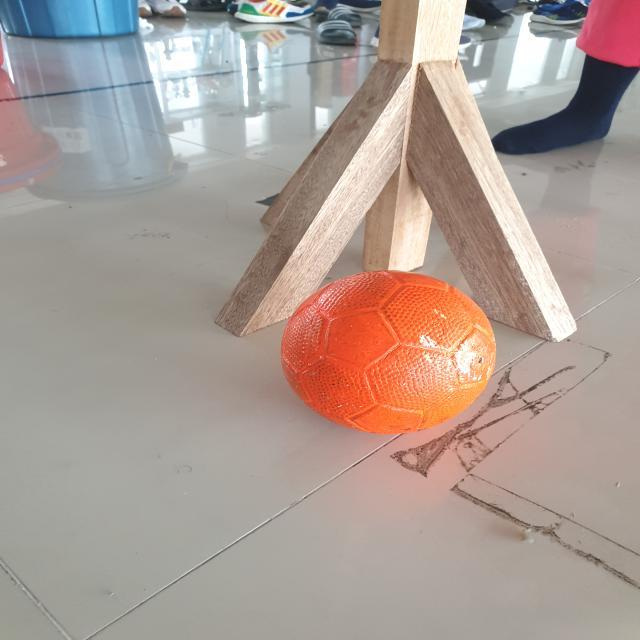bola: (264, 247, 516, 460)
